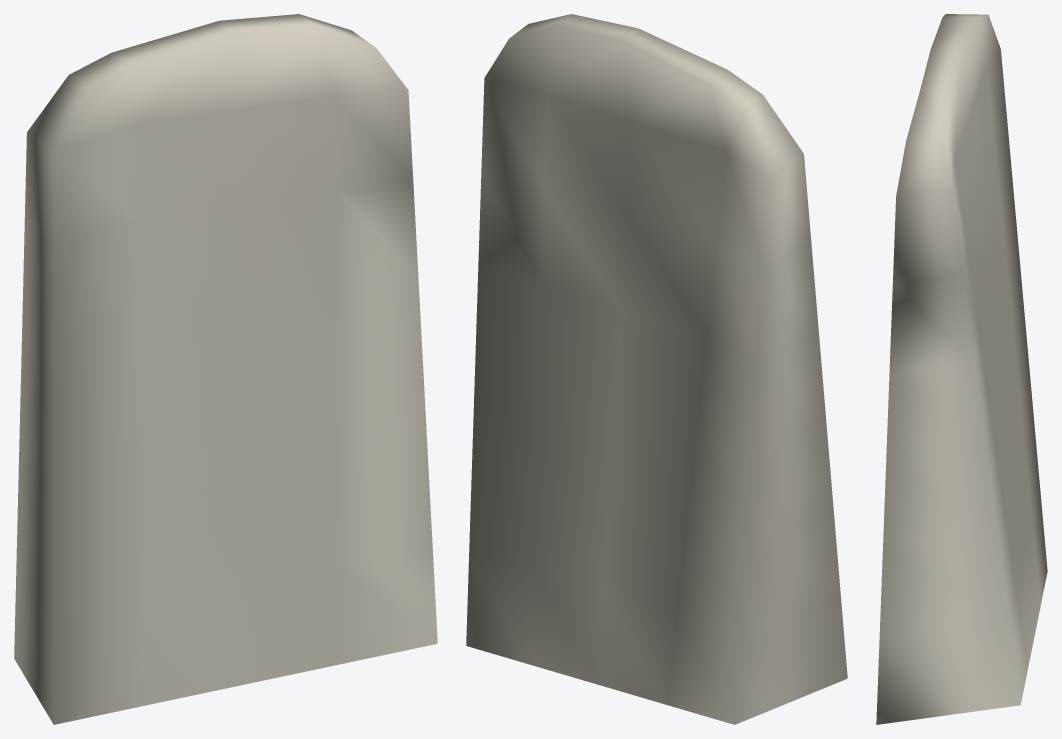
Rendered from WhaleVertebrae00.fbx.
3 views of the same model, side by side, from view 1: azimuth 30°, elevation 25°; view 2: azimuth 150°, elevation 25°; view 3: azimuth 270°, elevation 25° (orthographic). The views are drawn at different scales.
Visible parts, largest first — view 1: WhaleVertebrae00; view 2: WhaleVertebrae00; view 3: WhaleVertebrae00.
Part boxes in pixels (<box>): WhaleVertebrae00: <box>14,14,437,724</box>; WhaleVertebrae00: <box>466,14,847,724</box>; WhaleVertebrae00: <box>876,14,1047,724</box>.
Bounding box in the file's own units: 2.2 × 3.58 × 0.9322.
